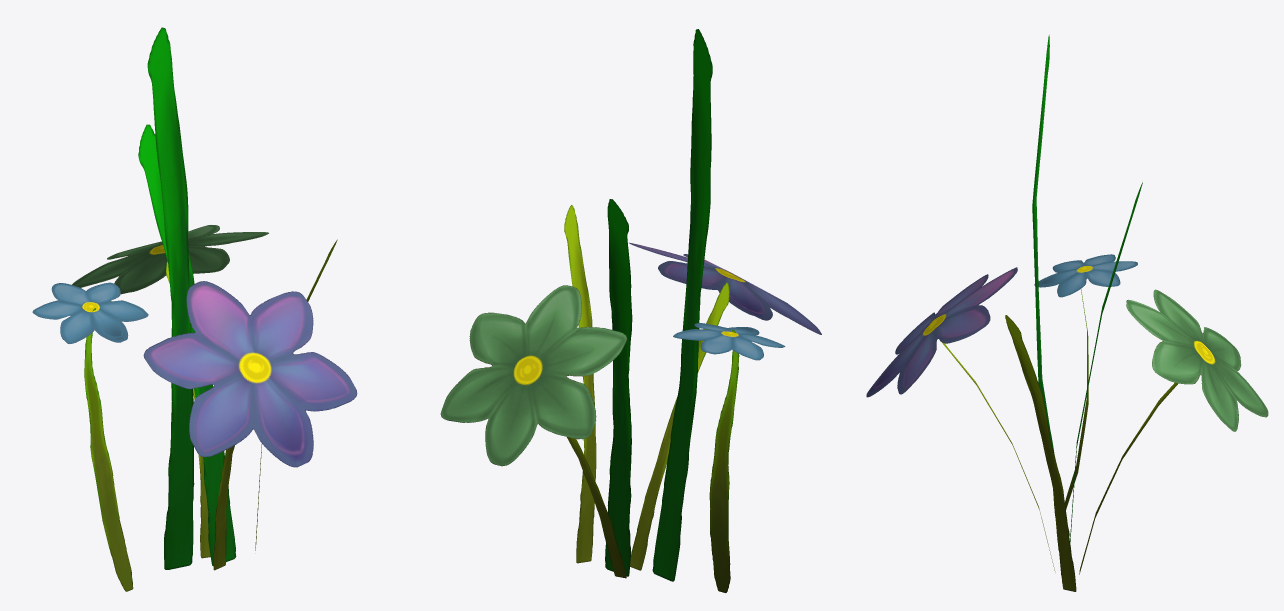
Rendered from 19_Arbustitos_Flores.fbx.
3 views of the same model, side by side, from view 1: azimuth 30°, elevation 25°; view 2: azimuth 150°, elevation 25°; view 3: azimuth 270°, elevation 25° (orthographic). The views are drawn at different scales.
Visible parts, largest first — view 1: Follage.085; view 2: Follage.085; view 3: Follage.085.
Boxes of the visible parts, box(x1,y1,x2,y2) form: Follage.085: box(32, 27, 357, 591); Follage.085: box(440, 29, 821, 592); Follage.085: box(866, 35, 1268, 591).
Bounding box in the file's own units: 34.93 × 69.72 × 48.67.
